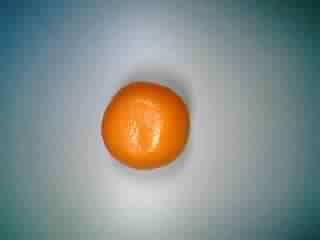orange: (100, 77, 198, 176)
